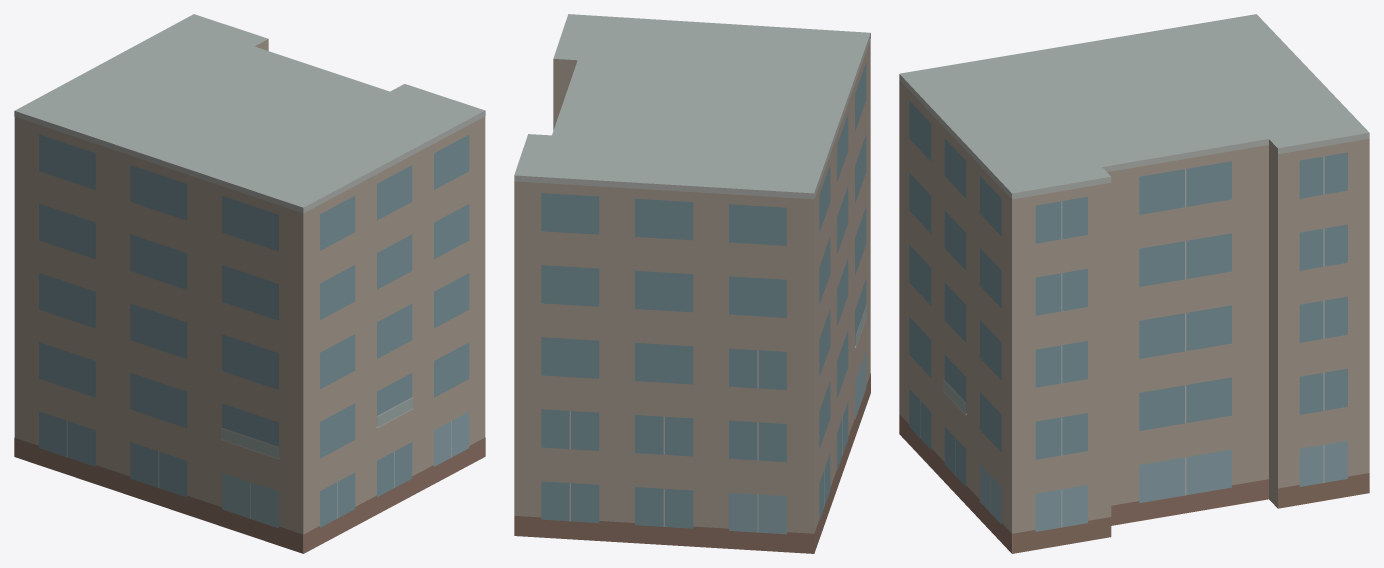
The model's file is survey-upis-32951818.glb.
The picture shows the model from 3 angles, left to right: view 1: azimuth 30°, elevation 25°; view 2: azimuth 150°, elevation 25°; view 3: azimuth 270°, elevation 25°; orthographic projection. The views are drawn at different scales.
Parts seen in each view (by area): view 1: survey-upis-32951818.tmp; view 2: survey-upis-32951818.tmp; view 3: survey-upis-32951818.tmp.
Boxes of the visible parts, x1=… form: survey-upis-32951818.tmp: x1=14, y1=14, x2=485, y2=553; survey-upis-32951818.tmp: x1=514, y1=14, x2=870, y2=553; survey-upis-32951818.tmp: x1=899, y1=14, x2=1369, y2=553.
Size of the model in its own units: 15.83 by 14.8 by 17.52.
